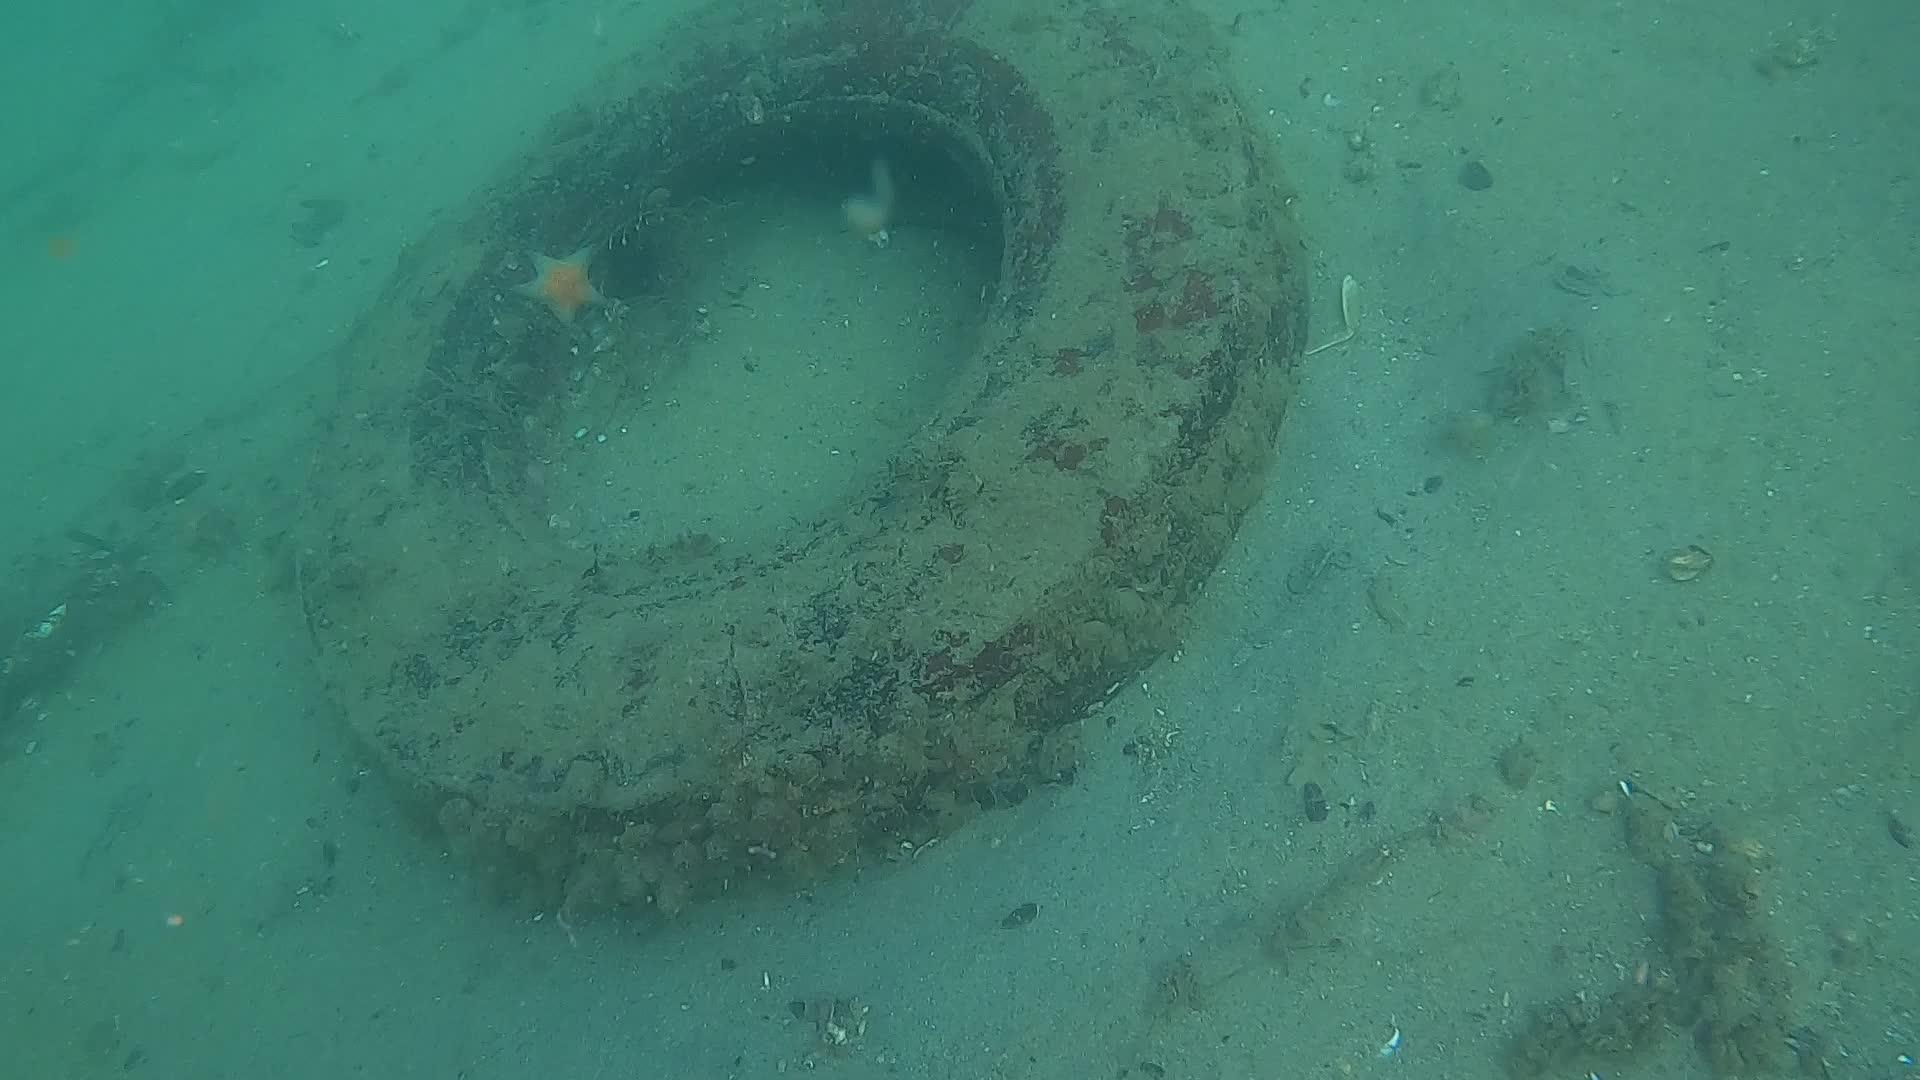tire: (301, 0, 1309, 895)
